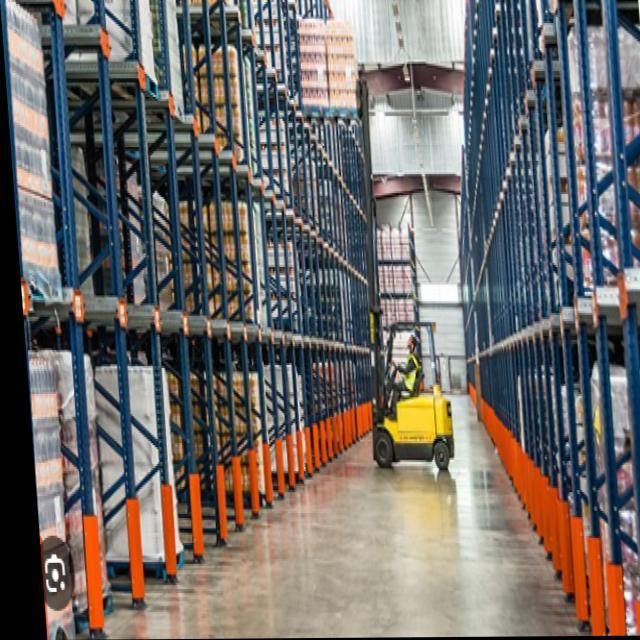boots: (386, 404, 397, 423)
vest: (400, 352, 422, 395)
